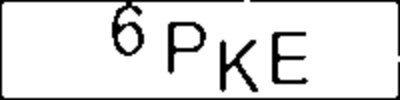6: (112, 1, 148, 61)
E: (266, 26, 310, 88)
K: (217, 34, 260, 97)
P: (158, 17, 209, 78)
